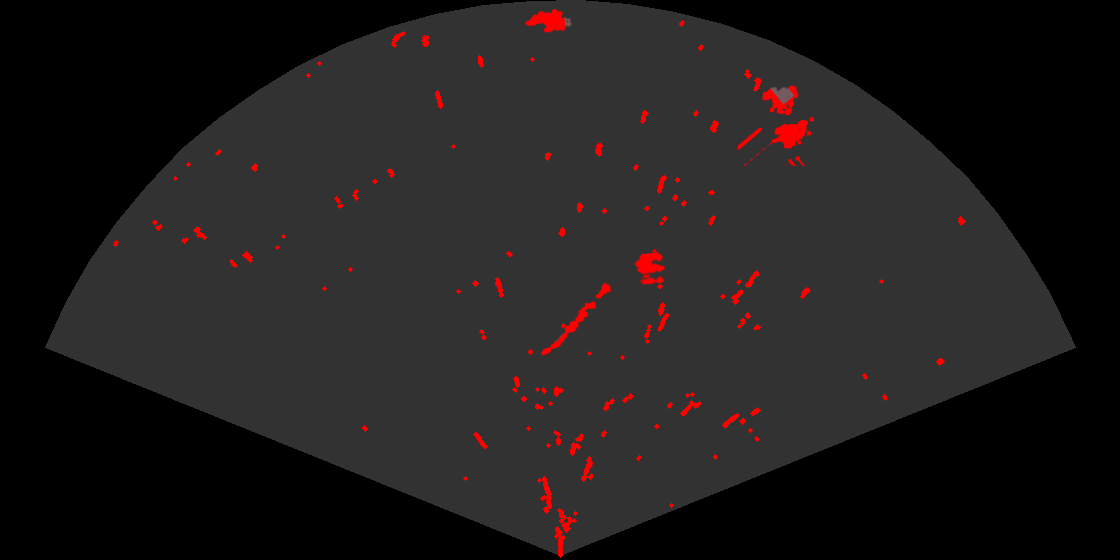AUV: (523, 7, 573, 34)
ball: (633, 251, 667, 286)
cage: (738, 84, 816, 166)
chain: (540, 281, 613, 357)
